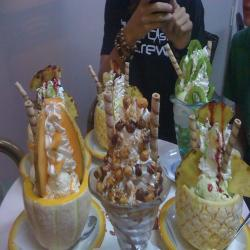icecream: (175, 37, 249, 220), (17, 75, 92, 222), (93, 74, 167, 221)
